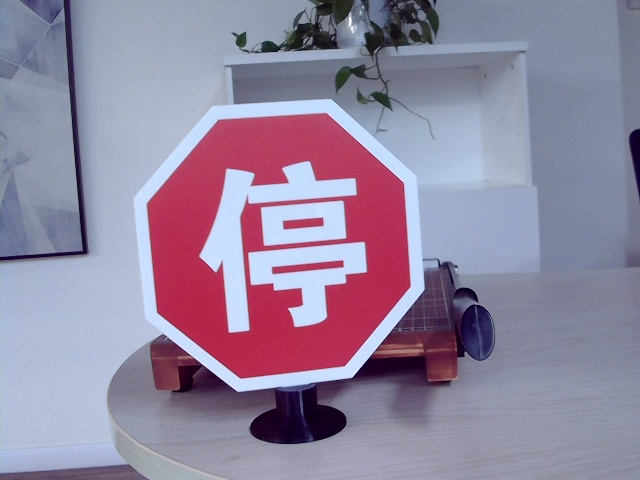stop: (186, 165, 372, 334)
